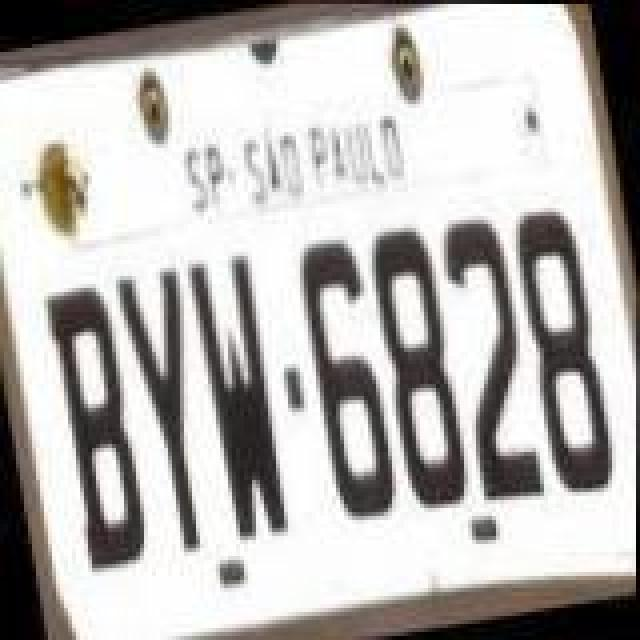2: (436, 206, 552, 510)
6: (292, 230, 408, 526)
8: (364, 216, 480, 516), (508, 198, 624, 498)
B: (40, 276, 156, 572)
W: (182, 248, 294, 548)
Y: (112, 260, 228, 560)
